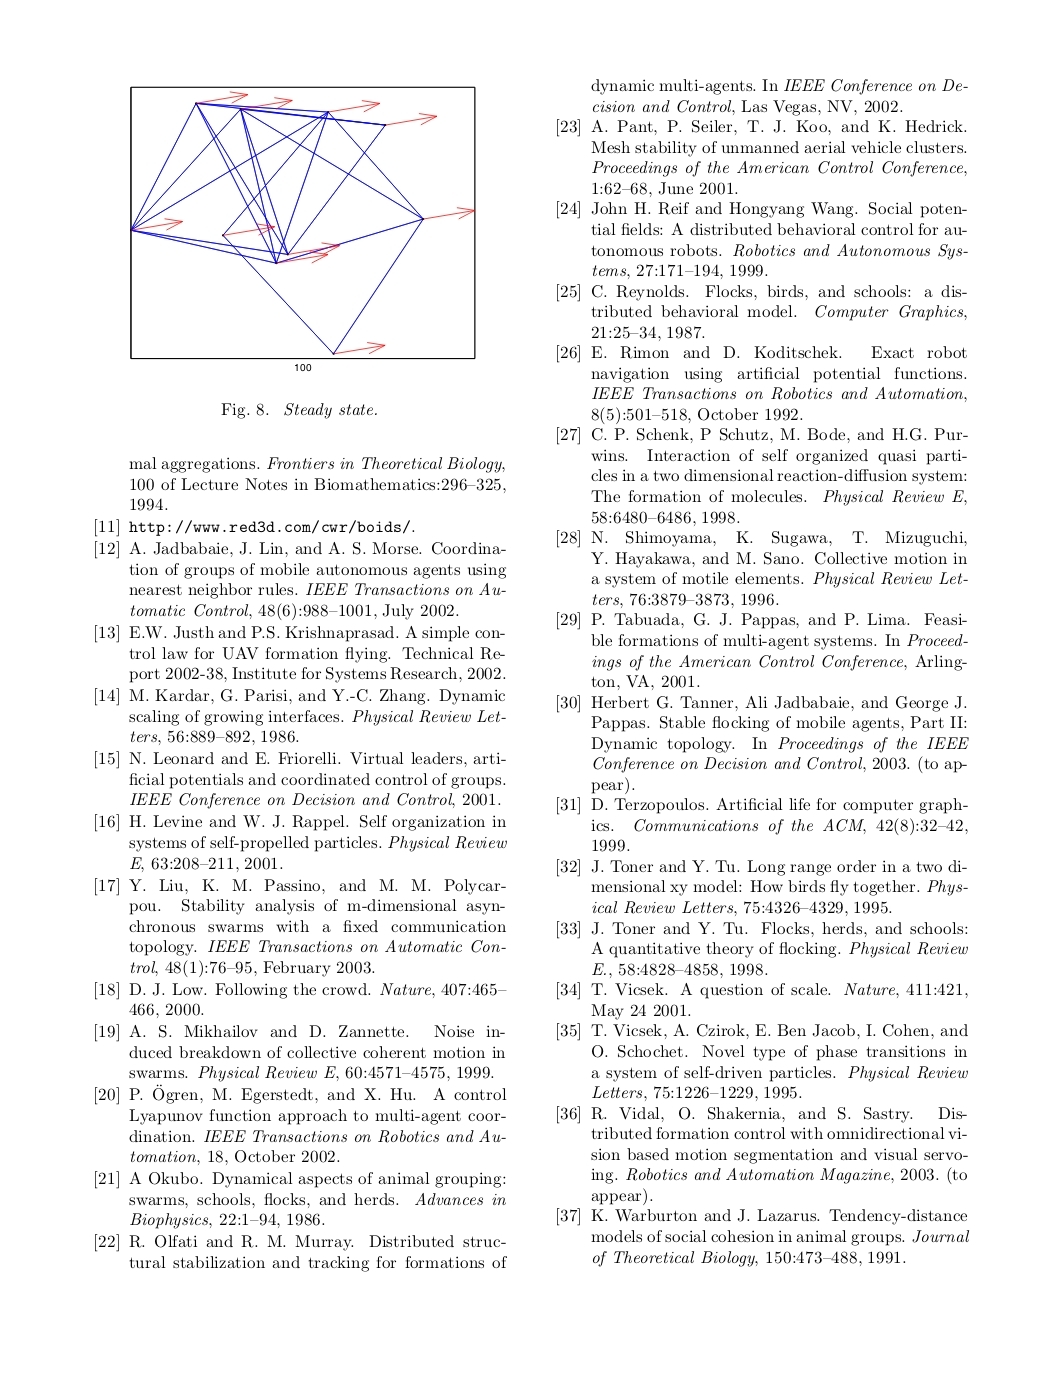figure: (130, 85, 475, 360)
